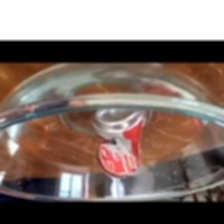can: (91, 100, 156, 182)
